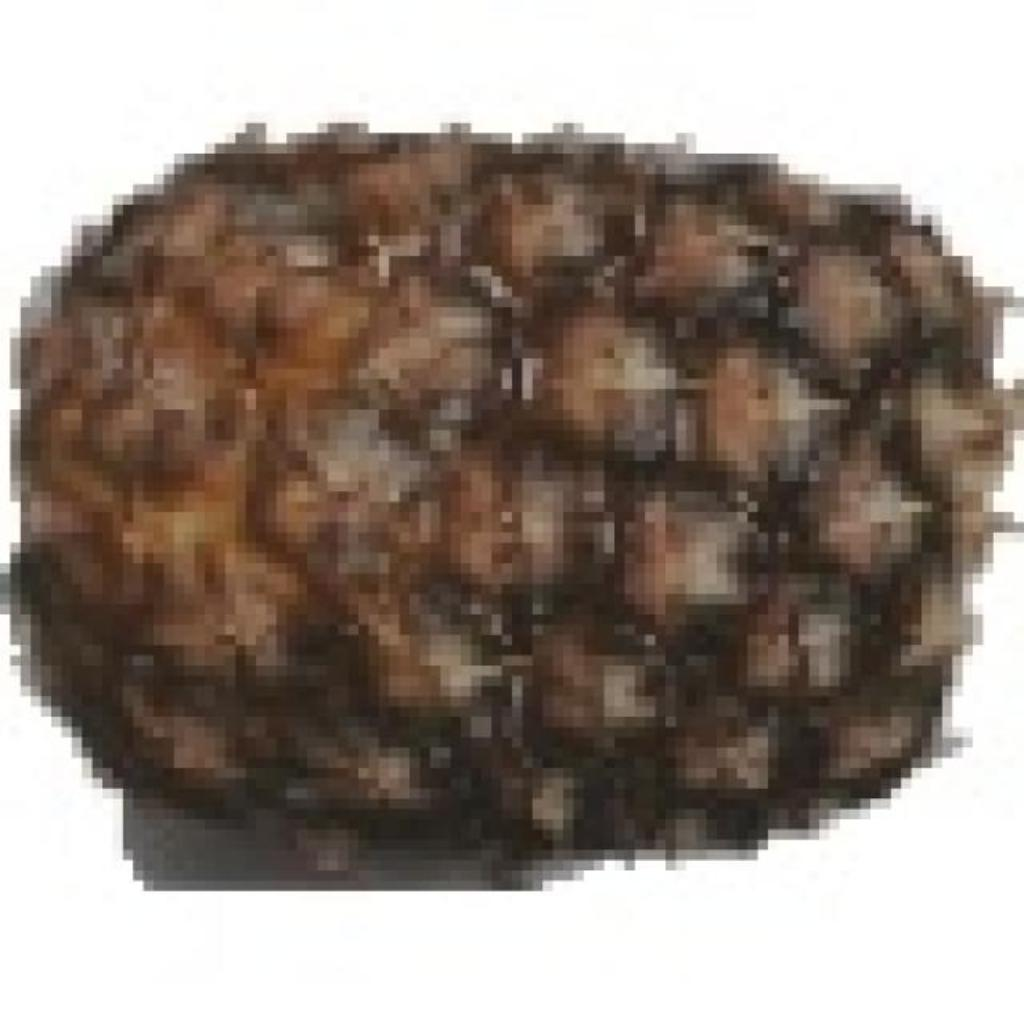pineapple: (51, 113, 1014, 860)
